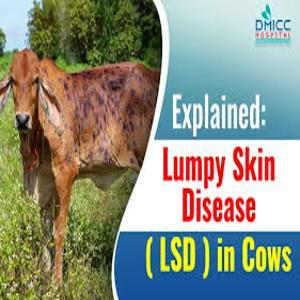lumpy skin diesease: (0, 47, 160, 292)
